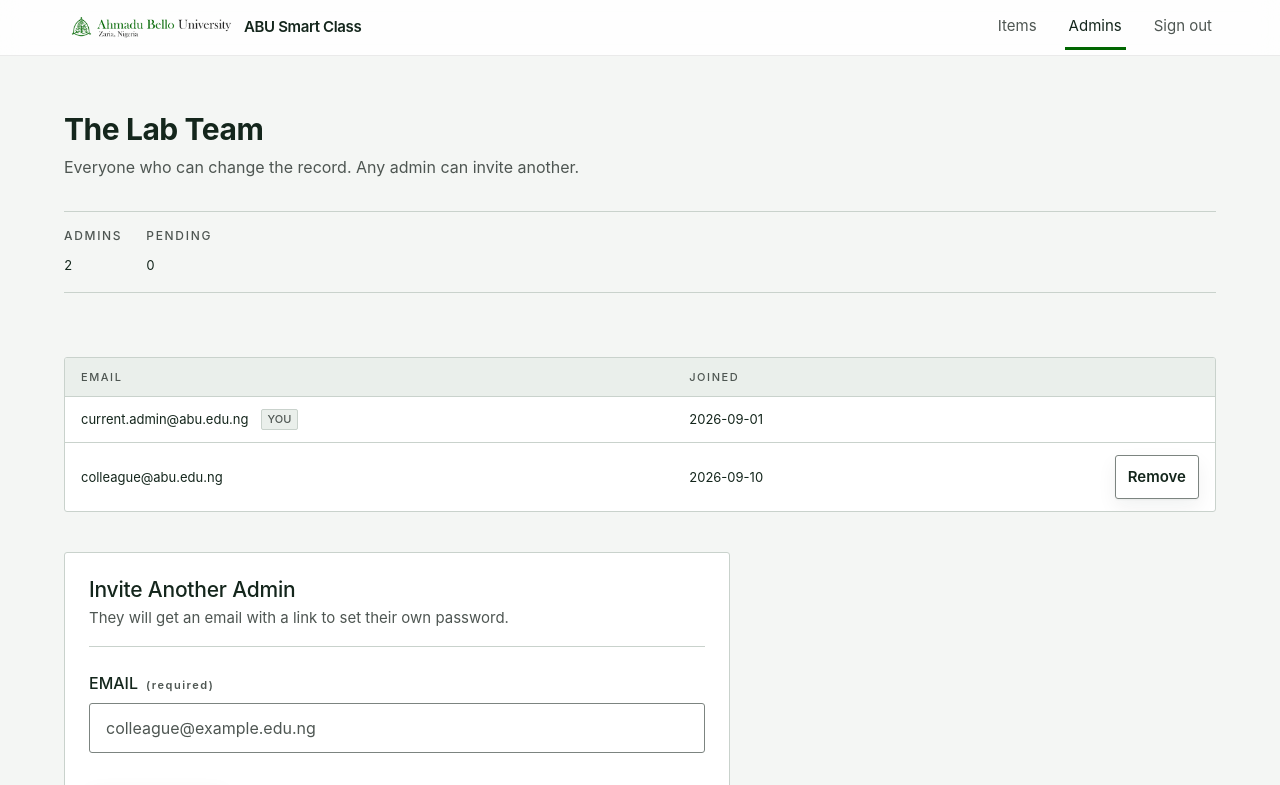
S-05 Challenger Suite — M2 Pre-Agreed Seams › Seam 1: S-008 Admin Team Management & Invites (app/admin/admins/page.tsx & lib/admin-api.ts) › successful admin removal removes row from roster, updates ADMINS count, and reveals empty state
Click the button with aria-label "Remove colleague@abu.edu.ng" at (1157, 477), box x1=1115 y1=455 x2=1199 y2=499
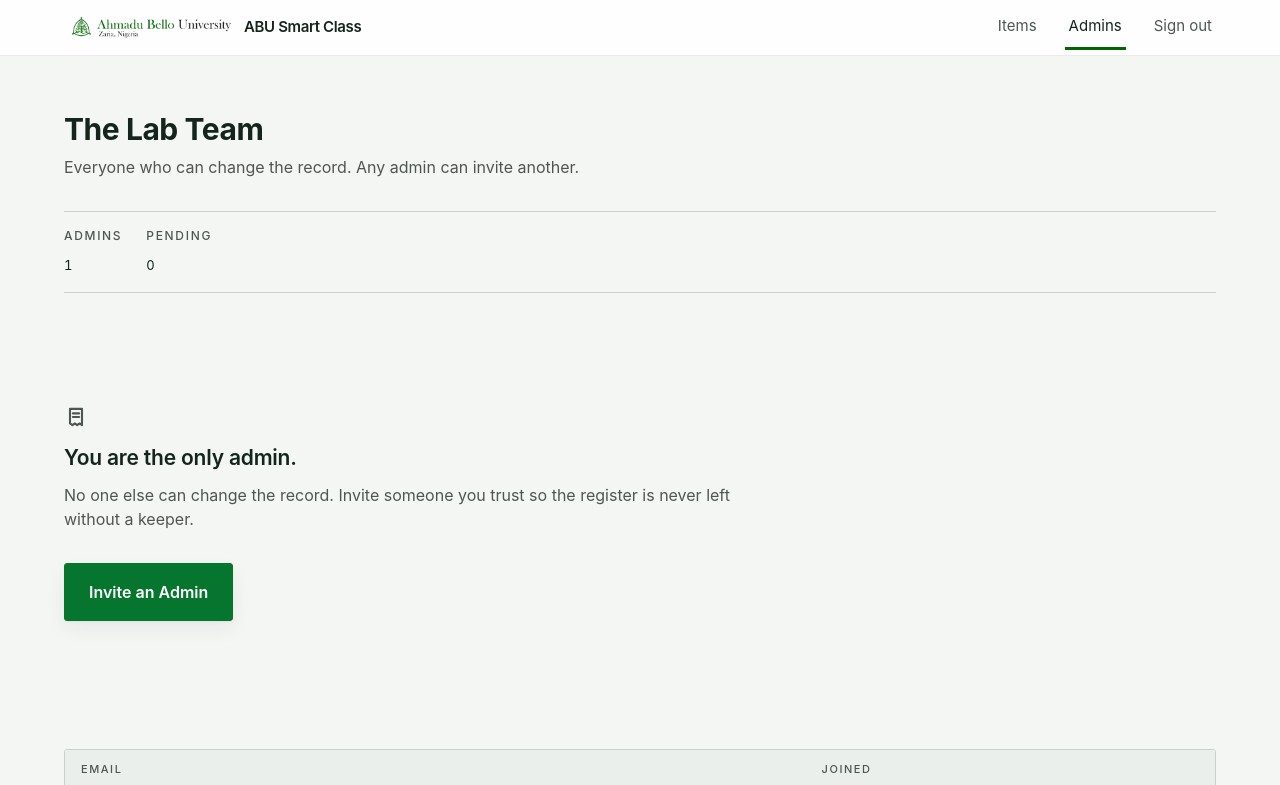
Expected: the text "ADMINS" is shown, x1=64 y1=228 x2=122 y2=244
Expected: the text "colleague@abu.edu.ng" is gone
Expected: the heading "You are the only admin." is shown, x1=64 y1=444 x2=297 y2=470
